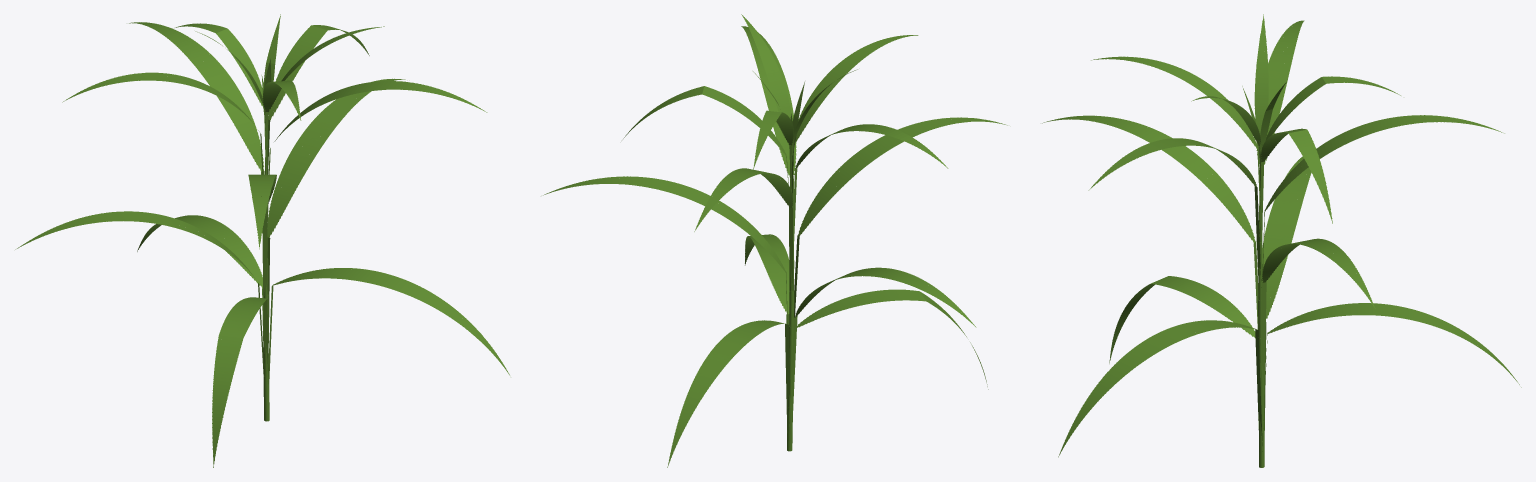
File: maize_002_day_095.dae
3 renders of one model, left to right at view 1: azimuth 30°, elevation 25°; view 2: azimuth 150°, elevation 25°; view 3: azimuth 270°, elevation 25°, orthographic. The views are drawn at different scales.
Visible parts, largest first — view 1: node; view 2: node; view 3: node.
Part boxes in pixels (bbox=[...]): node: bbox=[15, 14, 509, 467]; node: bbox=[543, 14, 1007, 467]; node: bbox=[1042, 14, 1521, 467].
Size of the model in its own units: 1.68 by 1.56 by 1.63.
Materials: 1 (1 with a texture image).
